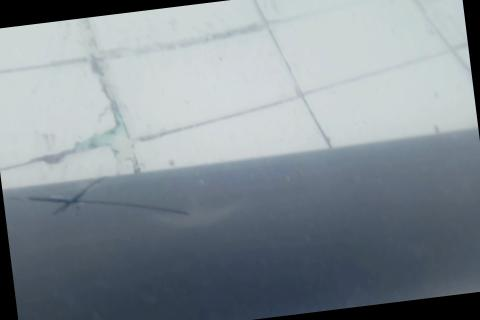keretakan: (8, 168, 191, 238)
